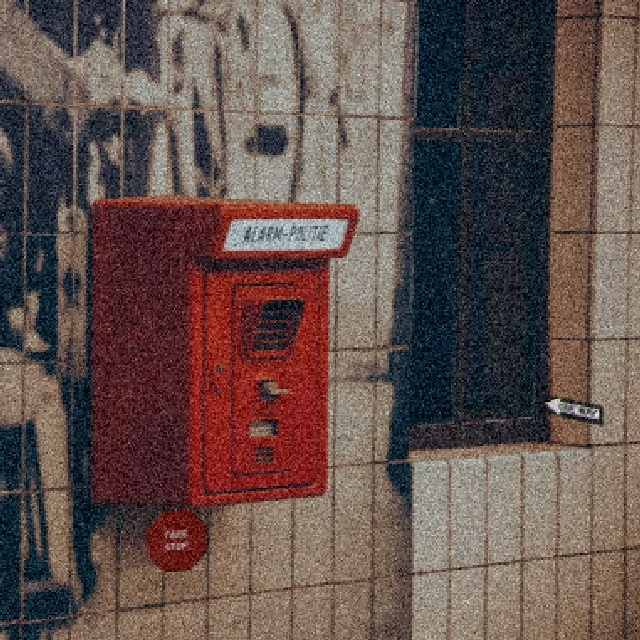FAKE_STOP: (145, 507, 207, 571)
ONE_WAY_ left: (539, 392, 603, 425)
